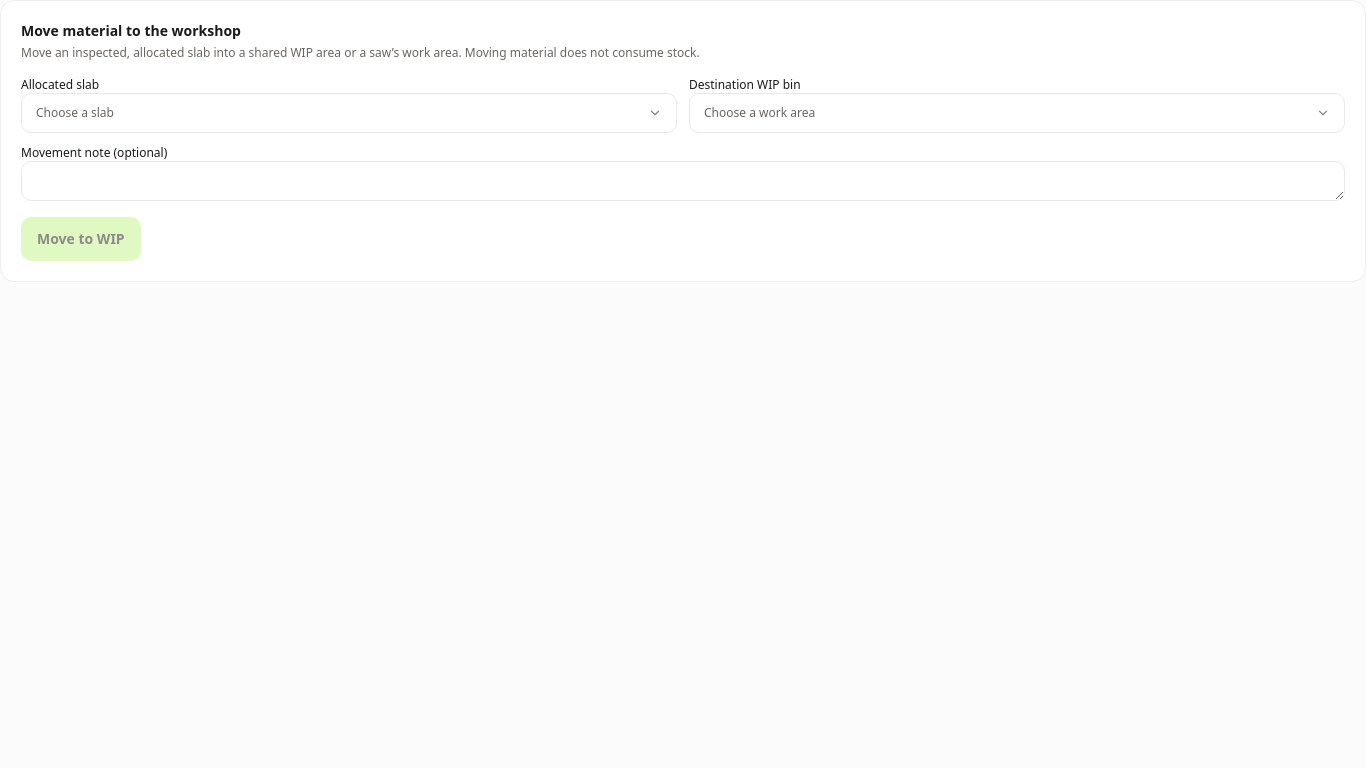
Test case: WIP movement › explains server blockers and prevents a blocked action
Click the dropdown named "Allocated slab" at x=75, y=112, box [21, 93, 677, 133]
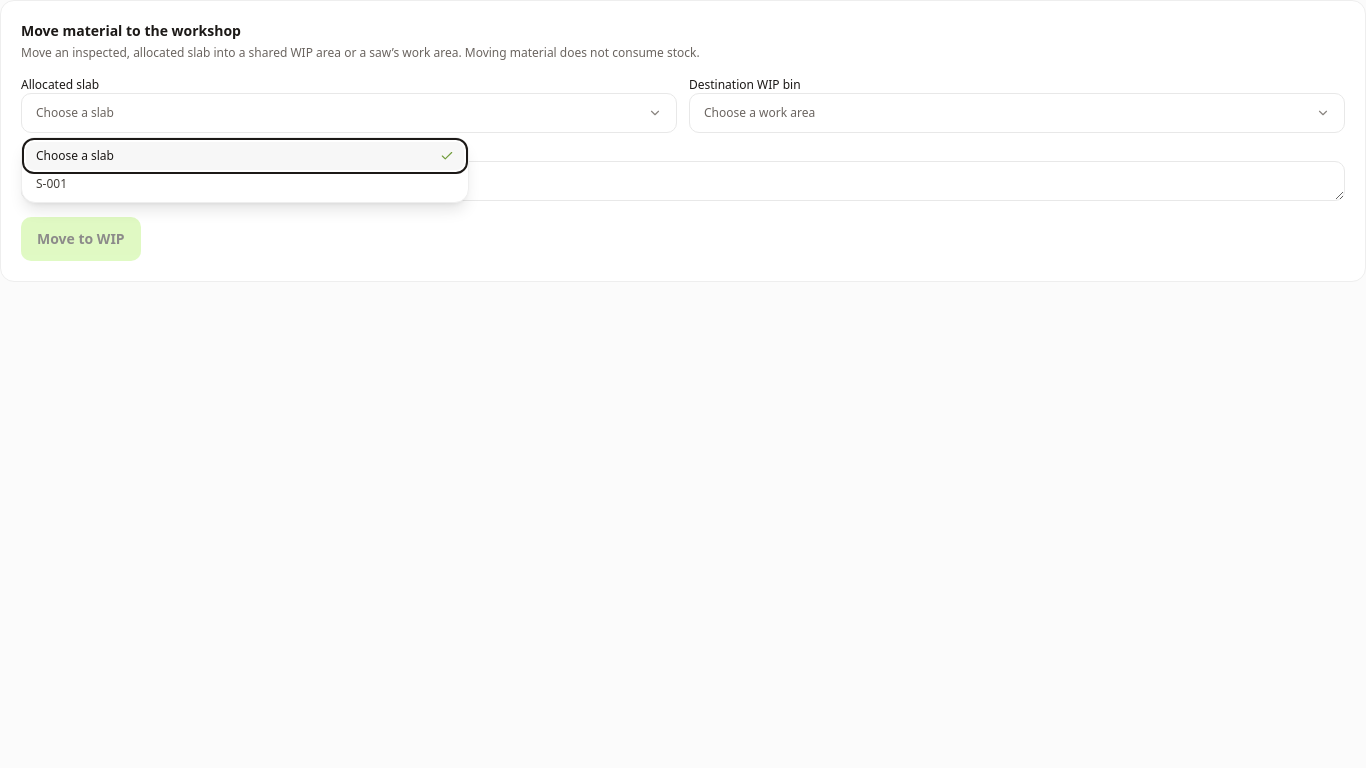
Click the option "S-001" at x=52, y=184, box [26, 170, 464, 198]
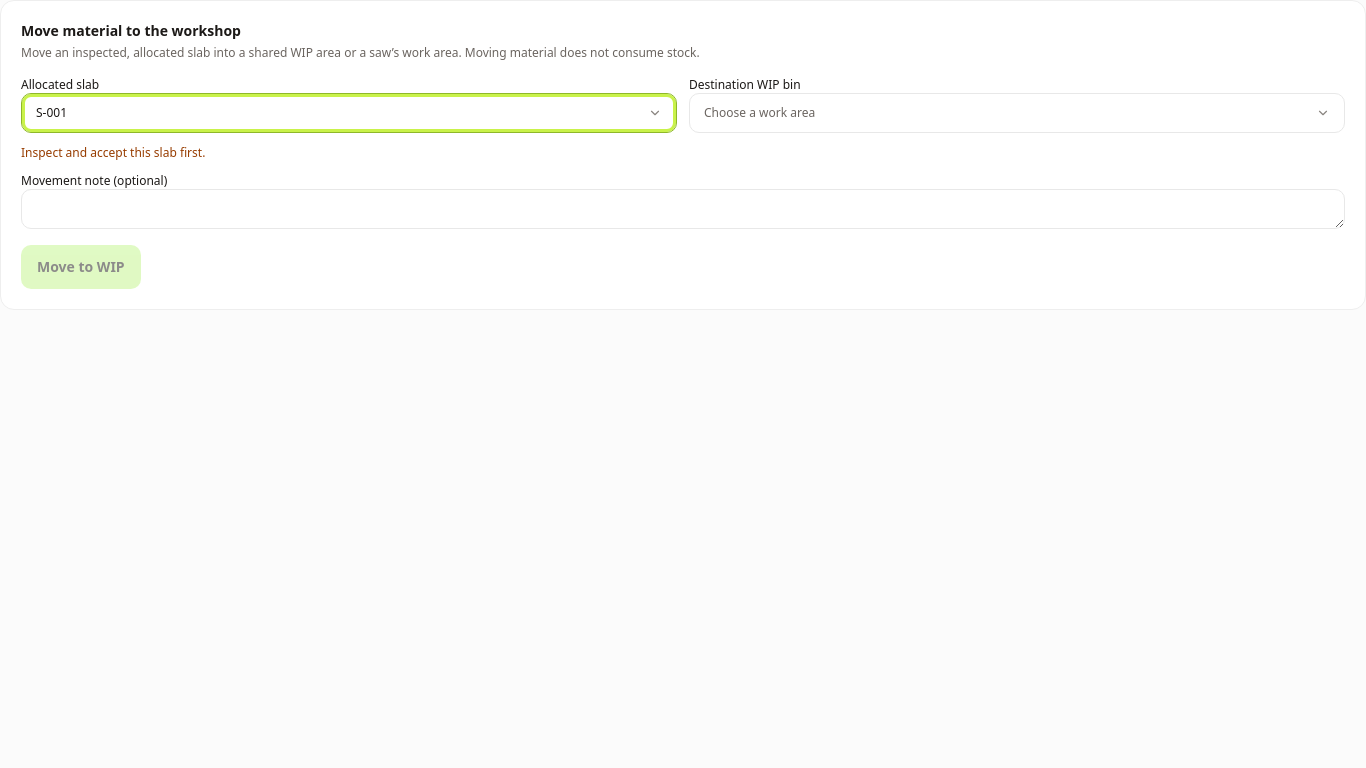
Expected: the button "Move to WIP" is disabled, [21, 245, 141, 289]
Now the text "Inspect and accept this slab first." is shown, box [21, 144, 205, 161]
